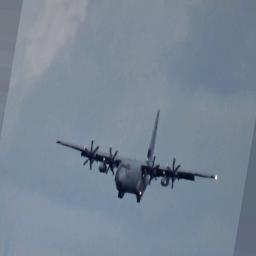Airplane: (56, 110, 218, 204)
